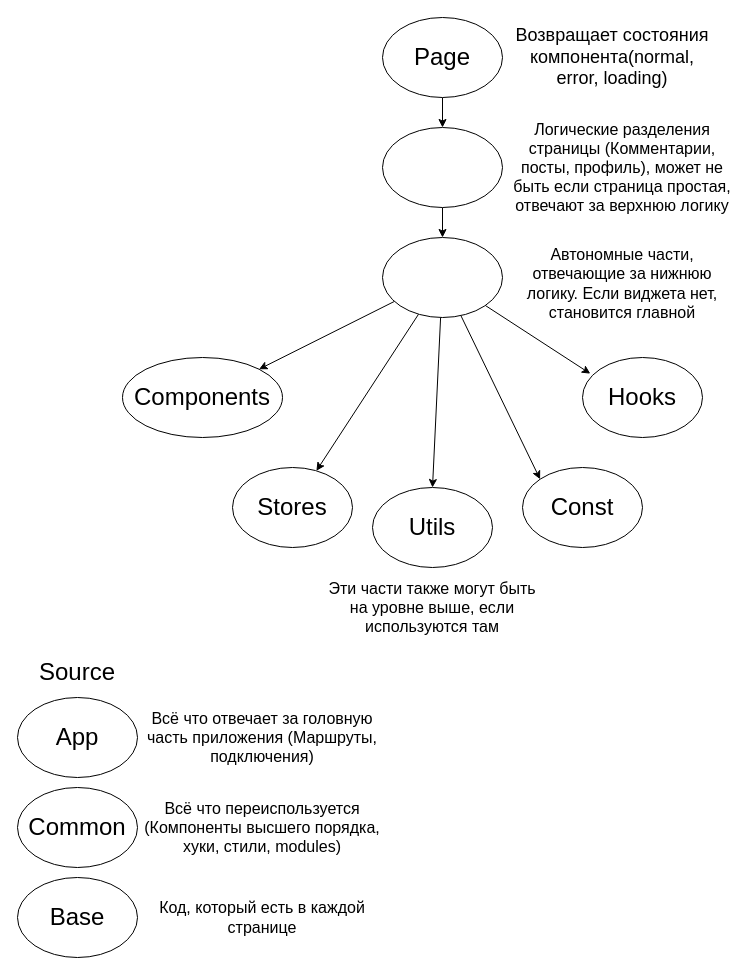
Image size: 750x975. Some labels were removed from this diagram. The centre of each missing label's shape, as x and y in pixels:
Modules: pixel 442 277
Widgets: pixel 442 167
